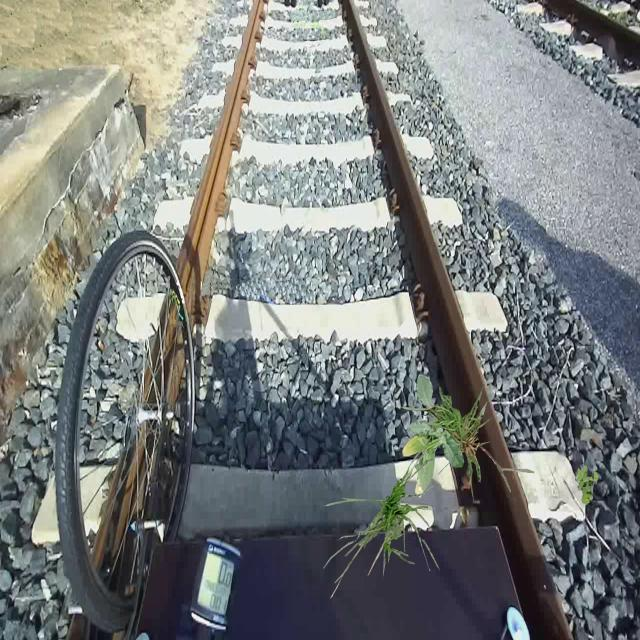Plant: (323, 436, 442, 600), (391, 384, 534, 504), (402, 374, 464, 498), (575, 465, 599, 506)
